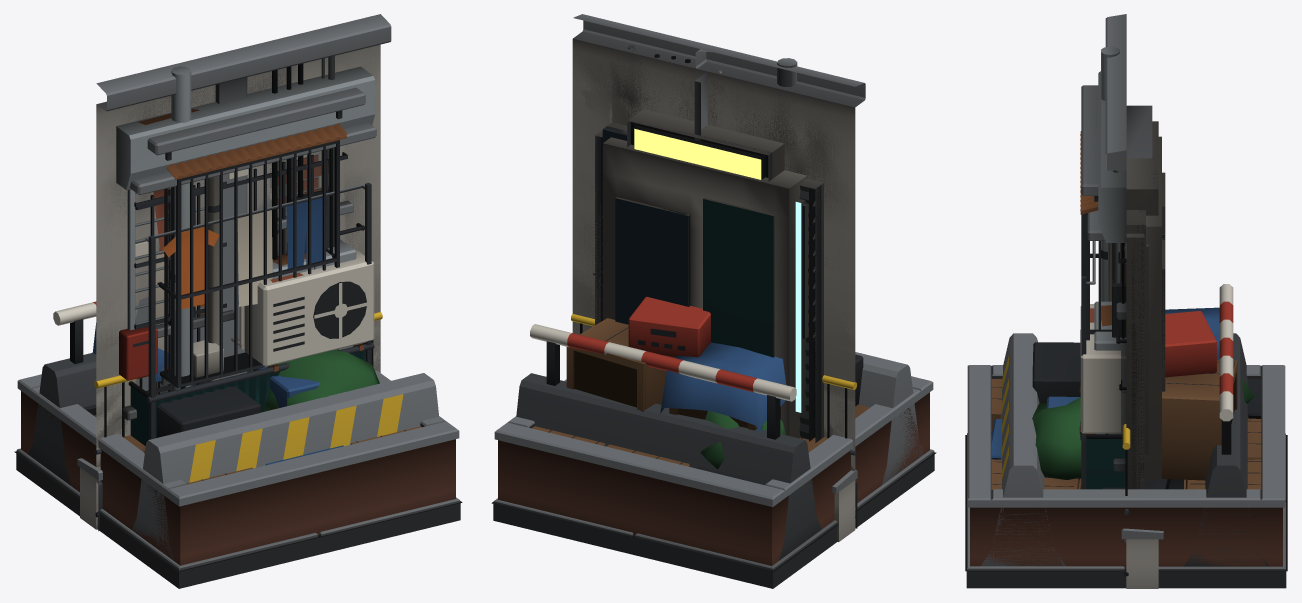
File: kit_facades.glb
3 views of the same model, side by side, from view 1: azimuth 30°, elevation 25°; view 2: azimuth 150°, elevation 25°; view 3: azimuth 270°, elevation 25° (orthographic).
Visible parts, largest first — view 1: low_planter, low_barrier, fac_g_plain, fac_u_window, fac_g_shutter, fac_u_ac, fac_u_balcony, fac_g_door, roof_cap, fac_u_pipes, fac_g_window, fac_u_plain (+5 smaller); view 2: fac_u_balcony, low_planter, fac_g_plain, low_barrier, fac_g_door, low_crates, fac_g_shutter, roof_cap, fac_u_plain, fac_u_window, fac_g_window, fac_g_vent (+5 smaller); view 3: low_planter, low_crates, low_barrier, fac_u_balcony, roof_cap, fac_g_shutter, fac_g_door, fac_g_plain, fac_u_ac, roof_parapet, fac_u_pipes, fac_g_vent (+3 smaller).
Part boxes in pixels (left/top/right/bottom): low_planter: left=17, top=350, right=459, bottom=565; low_barrier: left=28, top=301, right=439, bottom=561; fac_g_plain: left=96, top=14, right=391, bottom=531; fac_u_window: left=96, top=49, right=380, bottom=449; fac_g_shutter: left=96, top=51, right=380, bottom=512; fac_u_ac: left=96, top=53, right=380, bottom=511; fac_u_balcony: left=96, top=54, right=380, bottom=528; fac_g_door: left=96, top=45, right=380, bottom=529; roof_cap: left=14, top=448, right=462, bottom=588; fac_u_pipes: left=96, top=49, right=380, bottom=486; fac_g_window: left=96, top=49, right=380, bottom=481; fac_u_plain: left=96, top=52, right=380, bottom=529; fac_u_balcony: left=572, top=47, right=855, bottom=450; low_planter: left=494, top=376, right=933, bottom=565; fac_g_plain: left=572, top=14, right=865, bottom=528; low_barrier: left=516, top=324, right=923, bottom=560; fac_g_door: left=572, top=39, right=857, bottom=528; low_crates: left=532, top=296, right=869, bottom=484; fac_g_shutter: left=572, top=39, right=857, bottom=525; roof_cap: left=491, top=449, right=936, bottom=588; fac_u_plain: left=572, top=42, right=855, bottom=433; fac_u_window: left=572, top=51, right=855, bottom=470; fac_g_window: left=572, top=48, right=855, bottom=436; fac_g_vent: left=572, top=45, right=855, bottom=348; low_planter: left=967, top=365, right=1285, bottom=569; low_crates: left=991, top=307, right=1261, bottom=489; low_barrier: left=981, top=284, right=1268, bottom=566; fac_u_balcony: left=1080, top=136, right=1165, bottom=489; roof_cap: left=965, top=433, right=1287, bottom=588; fac_g_shutter: left=1098, top=71, right=1144, bottom=489; fac_g_door: left=1081, top=85, right=1158, bottom=541; fac_g_plain: left=1105, top=14, right=1126, bottom=543; fac_u_ac: left=1079, top=304, right=1120, bottom=434; roof_parapet: left=1121, top=528, right=1163, bottom=588; fac_u_pipes: left=1101, top=46, right=1145, bottom=343; fac_g_vent: left=1094, top=170, right=1126, bottom=434.
Bounding box in the file's own units: 2 × 3 × 2.
